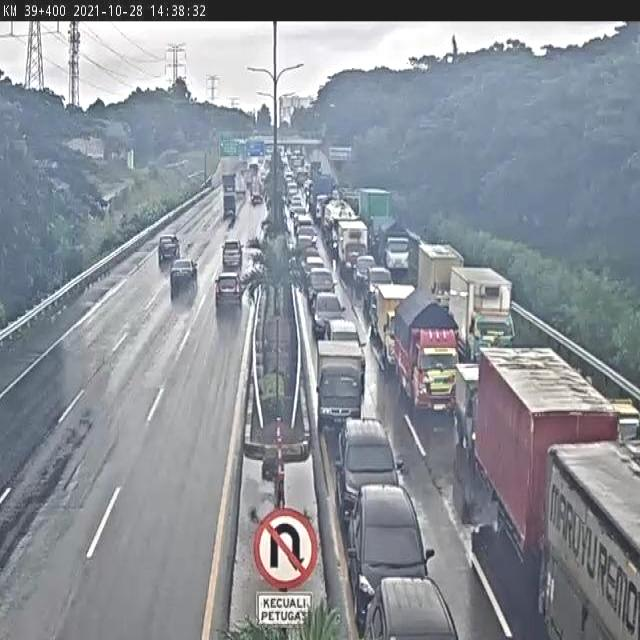Car: (336, 419, 402, 518), (362, 575, 461, 638), (365, 264, 394, 310), (170, 258, 198, 303), (214, 271, 242, 314), (324, 318, 358, 347), (158, 234, 180, 266), (306, 256, 328, 288), (222, 239, 242, 271), (297, 224, 319, 251), (283, 205, 297, 246), (289, 152, 304, 181), (290, 193, 306, 217), (297, 214, 314, 233), (222, 173, 236, 192), (285, 178, 296, 202), (304, 179, 314, 204), (309, 159, 322, 176), (260, 161, 270, 183), (284, 169, 293, 185), (292, 147, 302, 160)
Truck: (482, 330, 617, 508), (392, 288, 462, 416), (448, 264, 513, 362)
